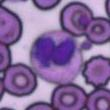N: (30, 30, 82, 84)
